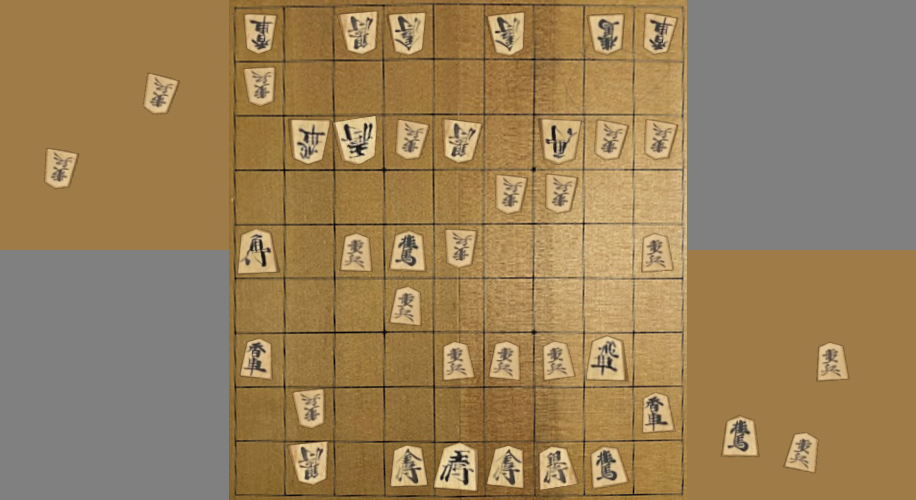A: (530, 440, 582, 495), (583, 331, 631, 383), (436, 441, 478, 493), (634, 229, 680, 276), (586, 445, 632, 492), (385, 444, 432, 489), (236, 230, 281, 275), (481, 445, 525, 490), (389, 229, 430, 274), (485, 339, 523, 387), (389, 284, 427, 330), (538, 340, 579, 382), (638, 393, 678, 435), (438, 343, 478, 384), (338, 231, 375, 275), (242, 337, 275, 381)
B: (333, 114, 382, 165), (288, 112, 333, 166), (482, 11, 532, 58), (285, 439, 333, 487), (284, 385, 333, 432), (387, 9, 433, 56), (437, 114, 483, 161), (585, 8, 627, 59), (641, 8, 679, 64), (336, 9, 379, 58), (538, 113, 580, 163), (240, 66, 285, 109), (591, 114, 633, 160), (441, 225, 478, 272), (238, 13, 278, 56), (393, 114, 430, 160), (540, 169, 578, 212), (492, 172, 527, 218), (643, 116, 678, 160)
C: (814, 340, 856, 388), (717, 415, 762, 457), (782, 430, 822, 475)
D: (138, 70, 184, 125), (40, 146, 77, 196)
